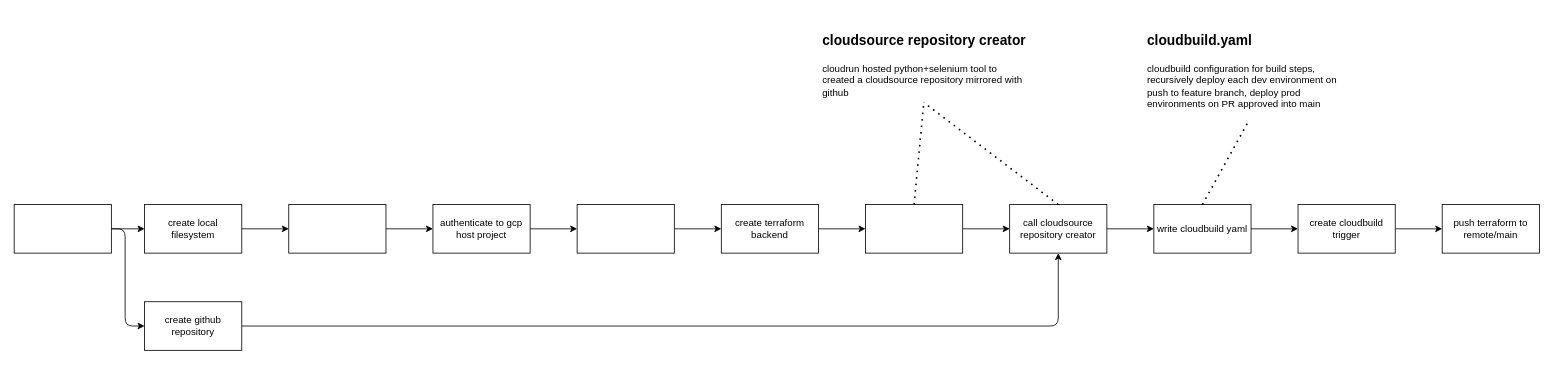
Some shapes in this 1554 by 365 pixel diagram are drawn without their labels. Each missing label, with the centre of its shape:
"create gcp project" goes at (x=625, y=228).
"setup terraform templates in filesystem" goes at (x=337, y=228).
"strap <project>" goes at (x=62, y=228).
"tf deploy cloudsource repository creator" goes at (x=914, y=228).
